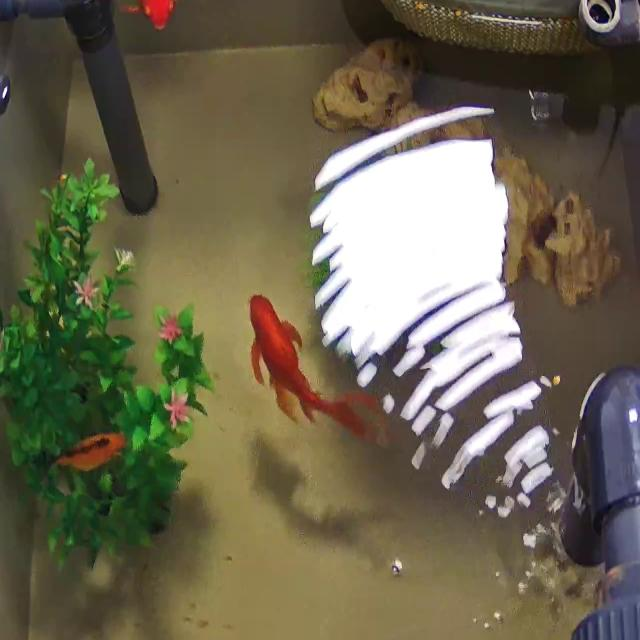fish: (244, 285, 366, 438), (52, 432, 128, 472)
